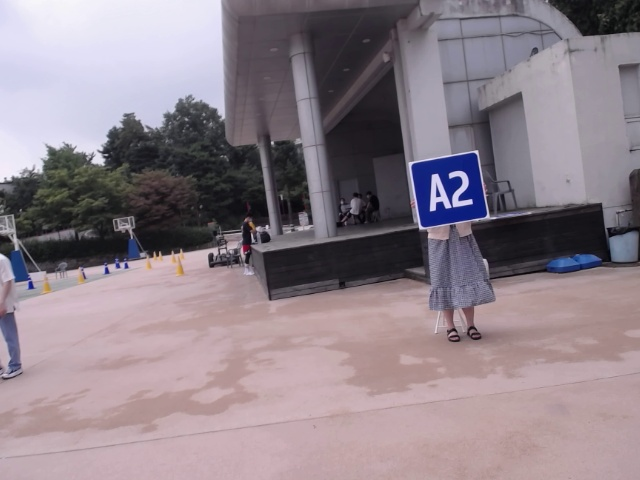delivery_a2: (410, 151, 489, 229)
